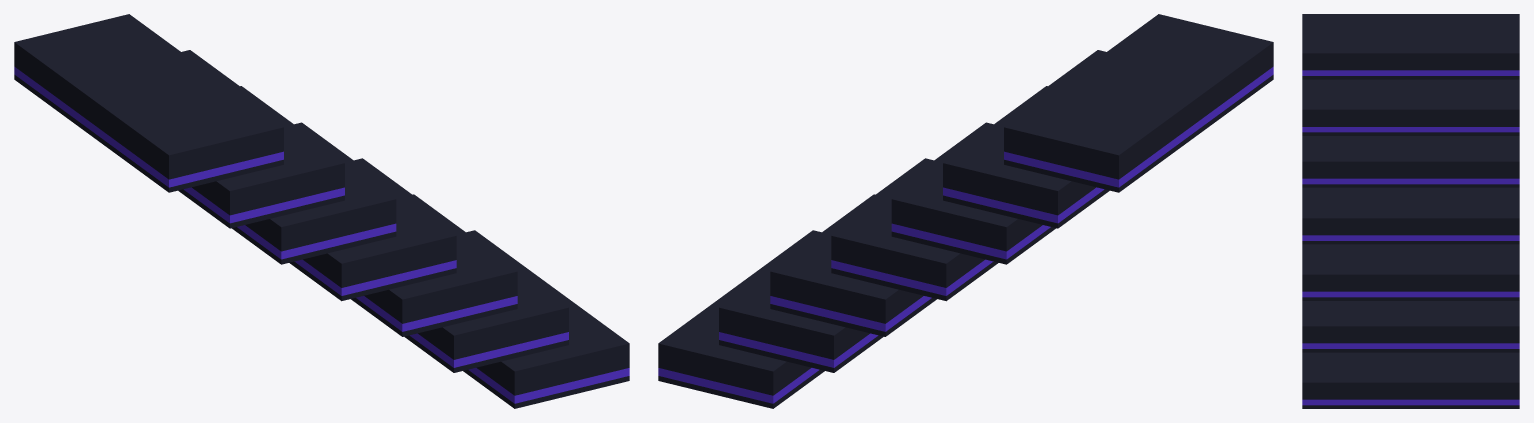
The model's file is Fader_Stairrrrs.fbx.
3 renders of one model, left to right at view 1: azimuth 30°, elevation 25°; view 2: azimuth 150°, elevation 25°; view 3: azimuth 270°, elevation 25°, orthographic. The views are drawn at different scales.
Parts seen in each view (by area): view 1: Cube.013, Cube.008, Cube.006, Cube.012, Cube.009, Cube.011, Cube.007; view 2: Cube.013, Cube.008, Cube.006, Cube.012, Cube.009, Cube.011, Cube.007; view 3: Cube.013, Cube.009, Cube.006, Cube.008, Cube.012, Cube.007, Cube.011.
Part boxes in pixels (left/top/right/bottom): Cube.013: left=14, top=14, right=283, bottom=192; Cube.008: left=351, top=158, right=517, bottom=336; Cube.006: left=463, top=230, right=629, bottom=408; Cube.012: left=178, top=50, right=344, bottom=228; Cube.009: left=289, top=122, right=456, bottom=301; Cube.011: left=232, top=86, right=396, bottom=264; Cube.007: left=404, top=194, right=568, bottom=372; Cube.013: left=1004, top=14, right=1273, bottom=192; Cube.008: left=770, top=158, right=936, bottom=336; Cube.006: left=658, top=230, right=824, bottom=408; Cube.012: left=943, top=50, right=1109, bottom=228; Cube.009: left=831, top=122, right=998, bottom=301; Cube.011: left=891, top=86, right=1055, bottom=264; Cube.007: left=719, top=194, right=883, bottom=372; Cube.013: left=1302, top=14, right=1519, bottom=79; Cube.009: left=1302, top=187, right=1519, bottom=244; Cube.006: left=1302, top=352, right=1519, bottom=408; Cube.008: left=1302, top=244, right=1519, bottom=300; Cube.012: left=1302, top=79, right=1519, bottom=135; Cube.007: left=1302, top=301, right=1519, bottom=352; Cube.011: left=1302, top=136, right=1519, bottom=187.
Bounding box in the file's own units: 256 × 180 × 149.
